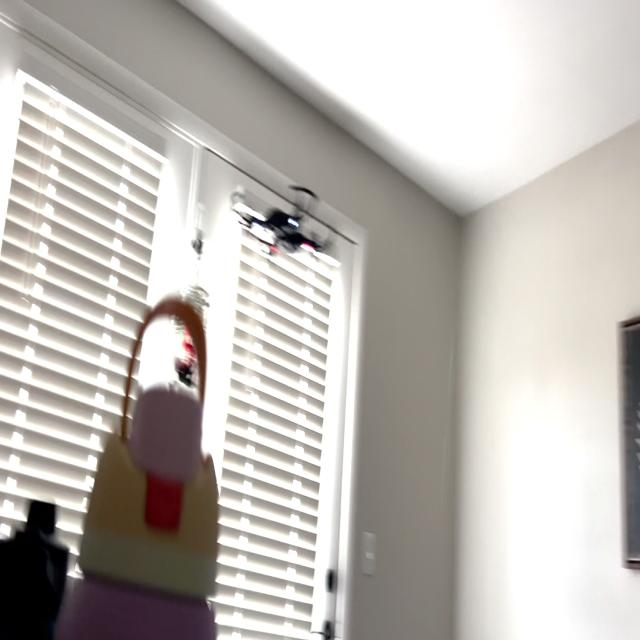drone: (222, 160, 339, 282)
